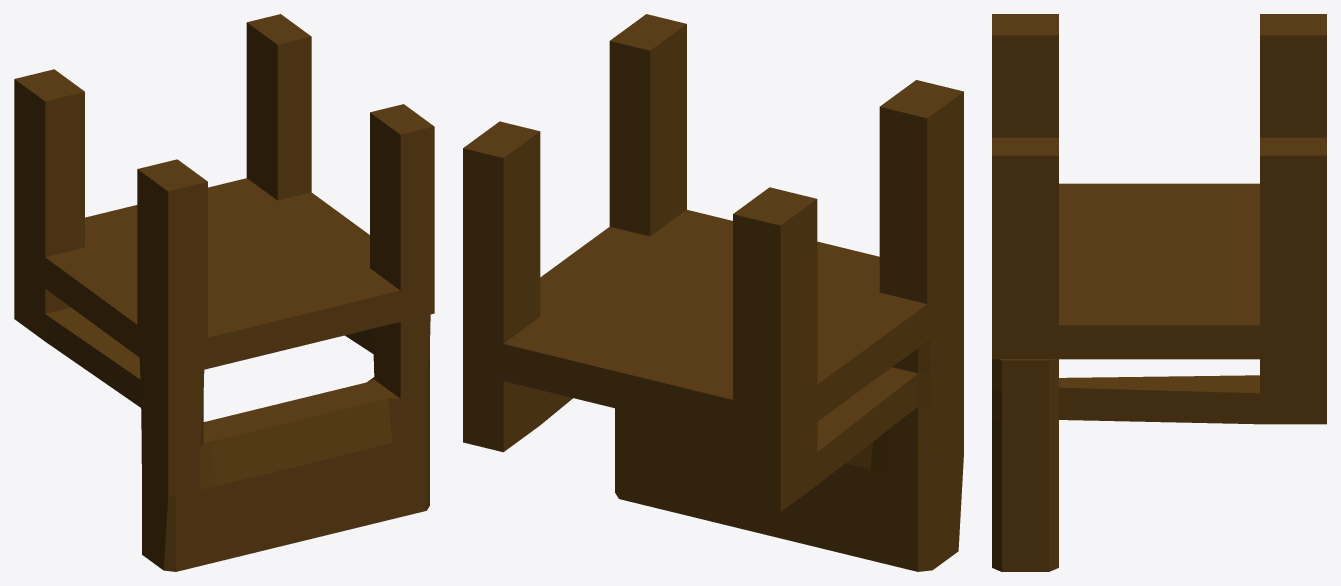
File: sandalye.fbx
3 views of the same model, side by side, from view 1: azimuth 30°, elevation 25°; view 2: azimuth 150°, elevation 25°; view 3: azimuth 270°, elevation 25° (orthographic). The views are drawn at different scales.
Parts seen in each view (by area): view 1: Küp; view 2: Küp; view 3: Küp.
Part boxes in pixels (box(x1,y1,x2,y2)): Küp: box(14, 14, 434, 571); Küp: box(463, 14, 963, 571); Küp: box(992, 14, 1326, 571).
Bounding box in the file's own units: 80 × 110 × 80.
